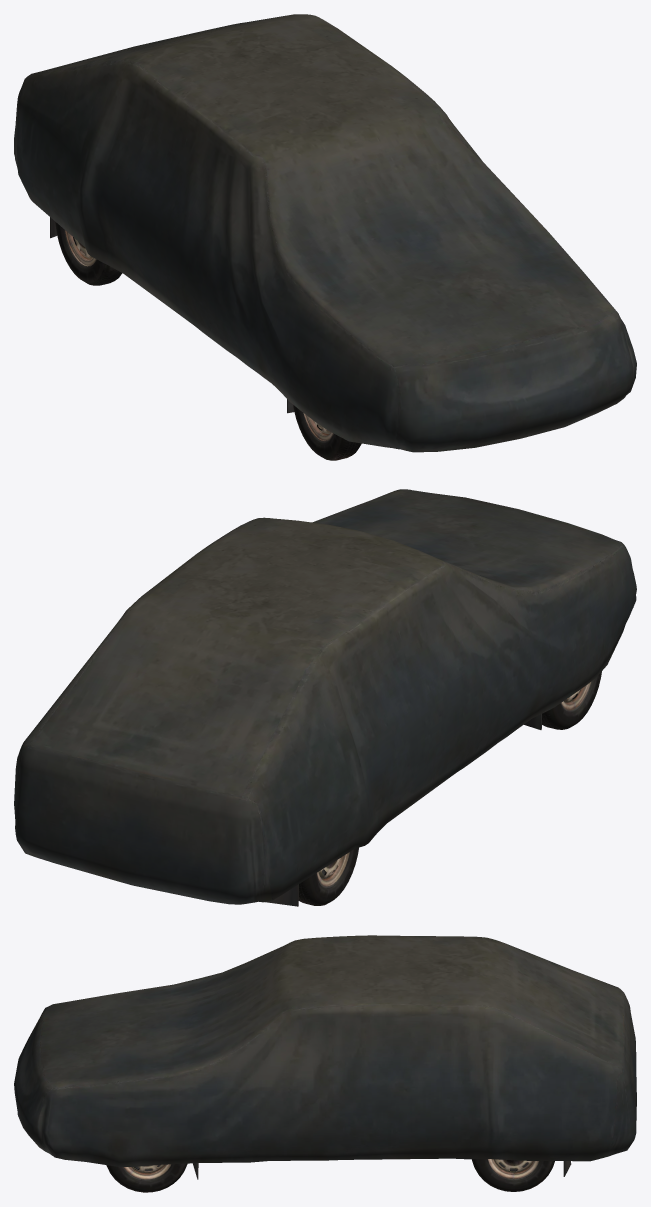
3 views of the same model, one above another, from view 1: azimuth 30°, elevation 25°; view 2: azimuth 150°, elevation 25°; view 3: azimuth 270°, elevation 25° (orthographic). The views are drawn at different scales.
Parts seen in each view (by area): view 1: covered_car, covered_car_wheel_03, covered_car_wheel_02; view 2: covered_car, covered_car_wheel_03, covered_car_wheel_02; view 3: covered_car, covered_car_wheel_04, covered_car_wheel_01.
Boxes of the visible parts, x1,y1,x2,y2 form: covered_car: (14,14,636,452); covered_car_wheel_03: (55,222,122,285); covered_car_wheel_02: (293,405,361,460); covered_car: (14,489,636,906); covered_car_wheel_03: (298,847,358,905); covered_car_wheel_02: (542,671,601,729); covered_car: (14,935,636,1179); covered_car_wheel_04: (472,1159,554,1191); covered_car_wheel_01: (106,1163,187,1192).
Bounding box in the file's own units: 1.79 × 1.41 × 4.38.
2 materials, 2 textured.
